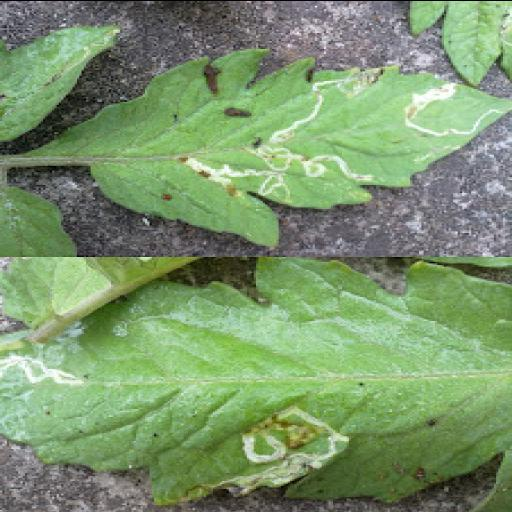disease_tomato: (0, 255, 512, 512), (82, 47, 512, 243)
